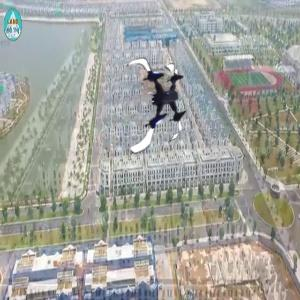drone: (110, 53, 204, 147)
